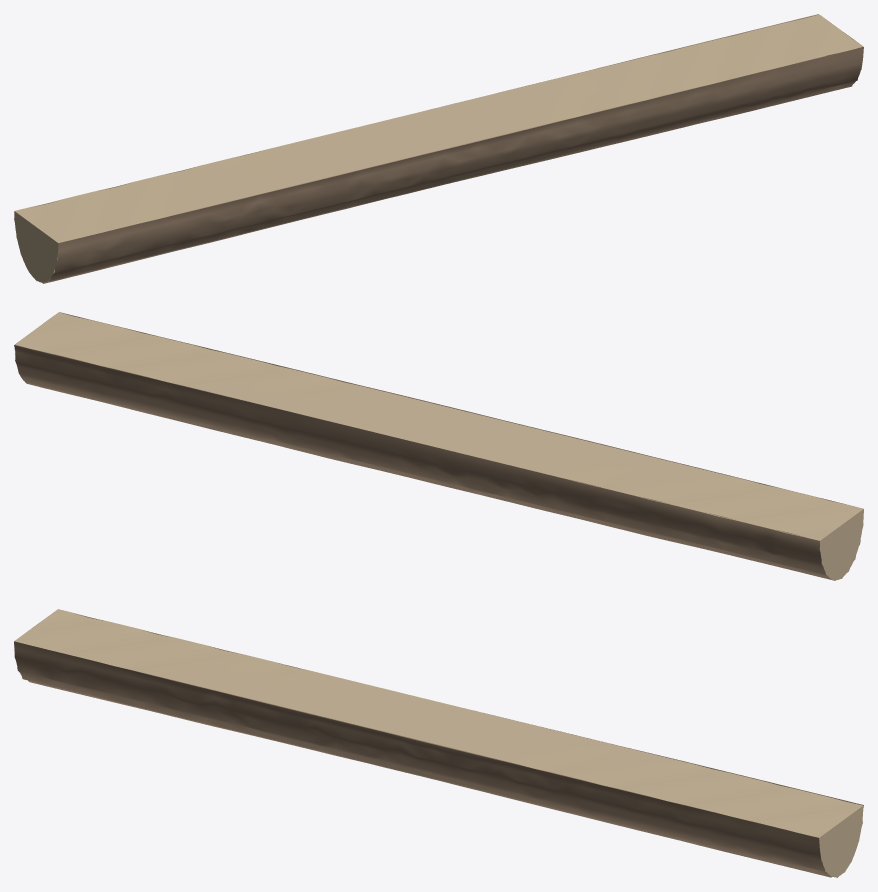
Rendered from lp_split_log.glb.
3 renders of one model, top to bottom at view 1: azimuth 30°, elevation 25°; view 2: azimuth 150°, elevation 25°; view 3: azimuth 330°, elevation 25°, orthographic.
Visible parts, largest first — view 1: lp_split_log; view 2: lp_split_log; view 3: lp_split_log.
Boxes of the visible parts, left/top/right/bottom form: lp_split_log: left=14, top=14, right=863, bottom=283; lp_split_log: left=14, top=312, right=863, bottom=580; lp_split_log: left=14, top=609, right=863, bottom=877.
Bounding box in the file's own units: 3.8 × 0.2439 × 0.3724.
